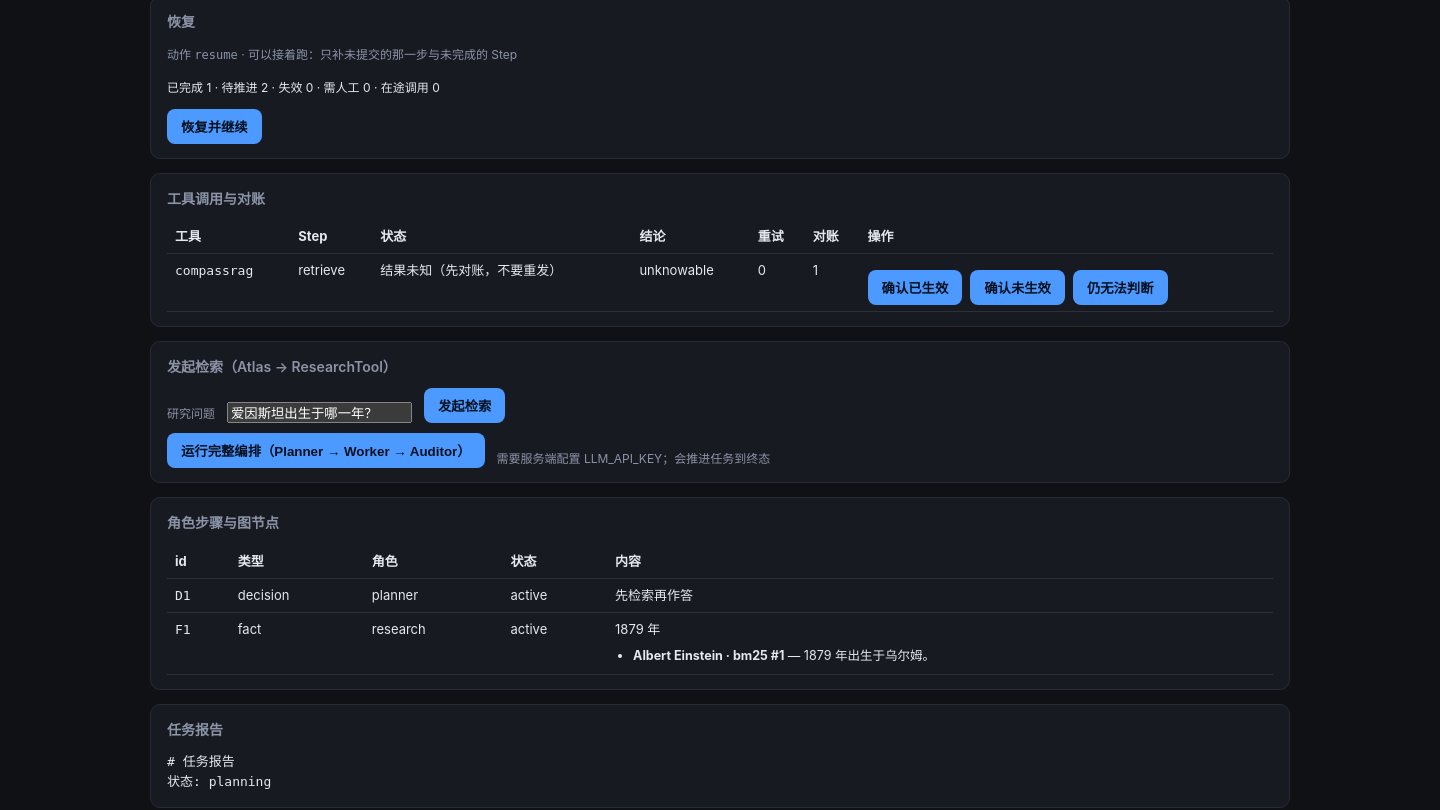
Test case: AtlasPage › 点击发起检索显示答案/证据并刷新任务
The width and height of the screenshot is (1440, 810).
(page scrolled)
Click the button "发起检索" at [465, 406], box [424, 388, 505, 423]
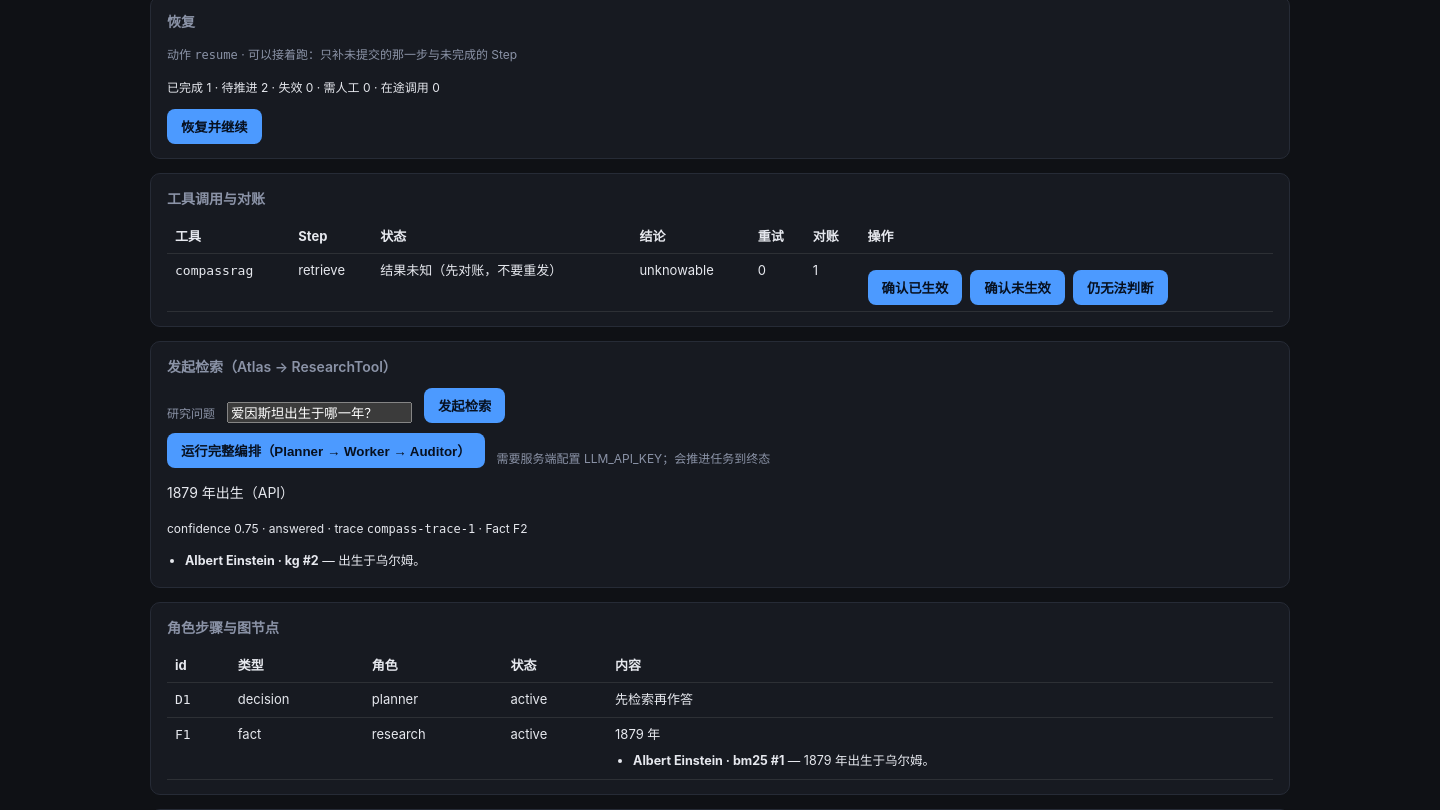
Now the text "1879 年出生（API）" is shown, box [167, 484, 294, 501]
Now the text "compass-trace-1" is shown, box [367, 522, 475, 536]
